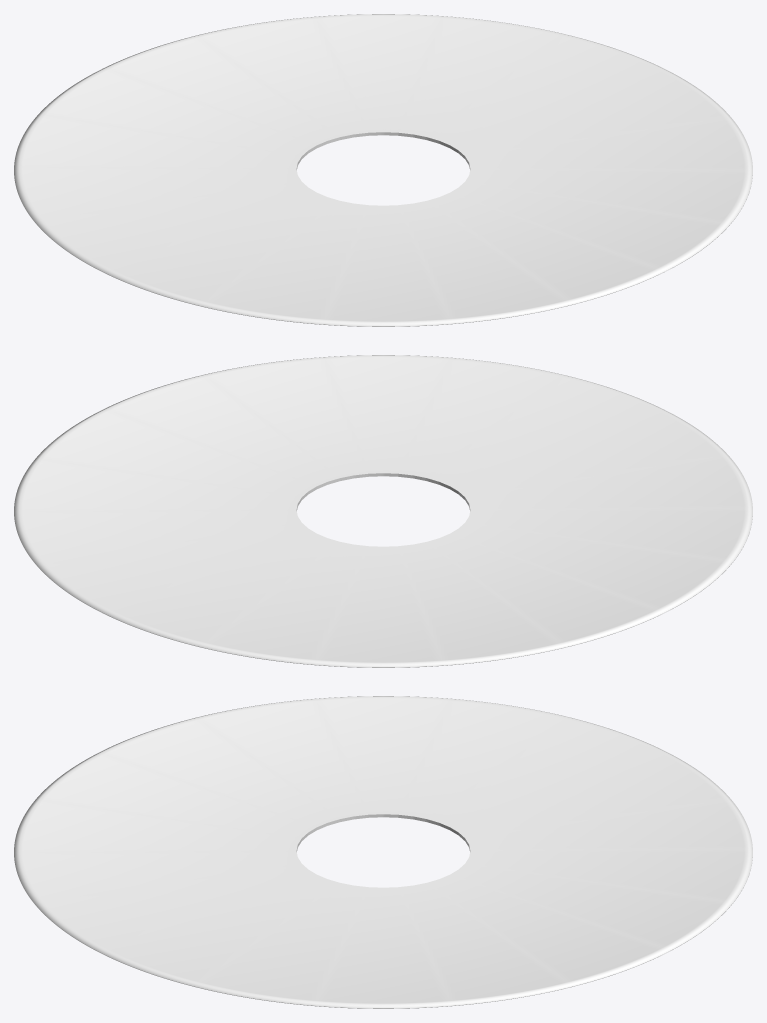
Rendered from vinyl_7_large.dae.
3 renders of one model, top to bottom at view 1: azimuth 30°, elevation 25°; view 2: azimuth 150°, elevation 25°; view 3: azimuth 270°, elevation 25°, orthographic.
Visible parts, largest first — view 1: vinyl; view 2: vinyl; view 3: vinyl.
Boxes of the visible parts, box(x1,y1,x2,y2) form: vinyl: box(14, 14, 752, 326); vinyl: box(14, 355, 752, 667); vinyl: box(14, 696, 752, 1008).
Size of the model in its own units: 17 by 0.1191 by 17.
Materials: 1 (1 with a texture image).
